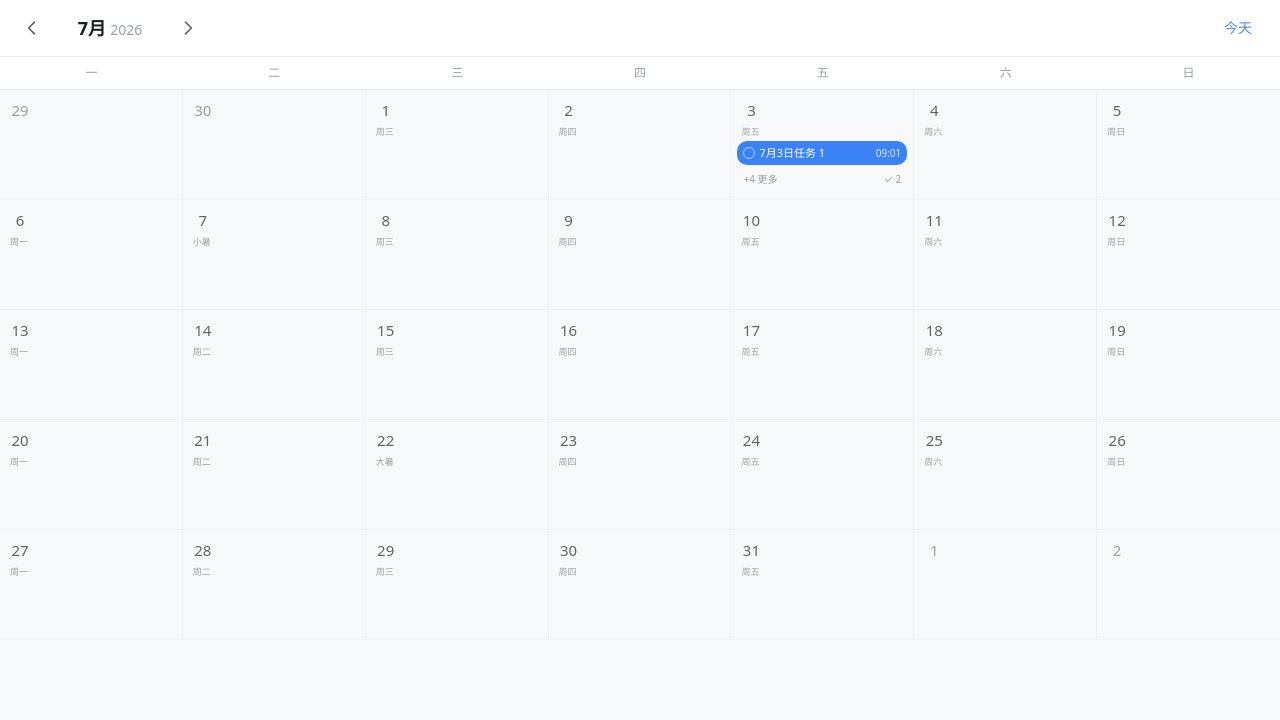
MonthView 任务显示优化 › 单日任务过多时显示 +N，点击后以原地浮层展示全部未完成和已完成任务
Expected: the text "7月3日任务 1" is shown, [759, 145, 825, 160]
Expected: the text "7月3日任务 2" is not shown
Click the button with test id "month-more-2026-07-03" at [806, 179], box [737, 169, 874, 189]
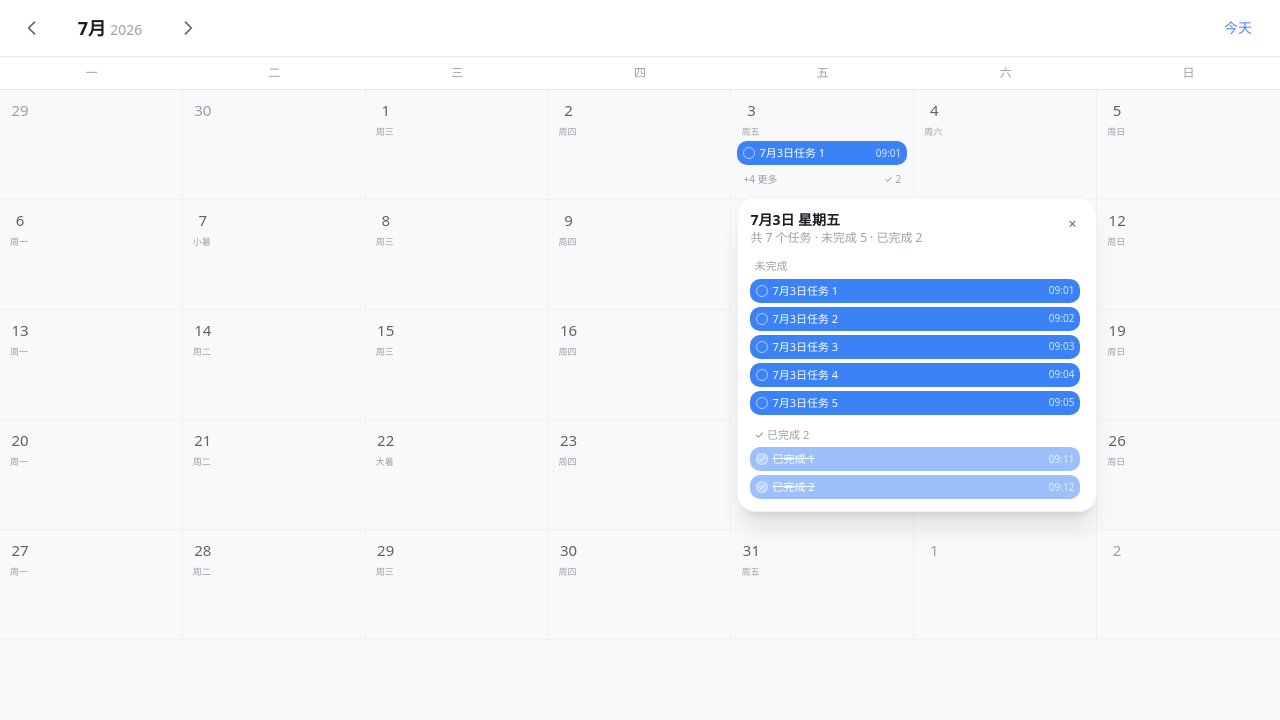
Expected: the text "共 7 个任务 · 未完成 5 · 已完成 2" is shown, [750, 230, 922, 246]
Expected: the text "7月3日任务 1" below "个任务 · 未完成" is shown, [772, 282, 838, 298]
Expected: the text "7月3日任务 2" is shown, [772, 310, 838, 326]
